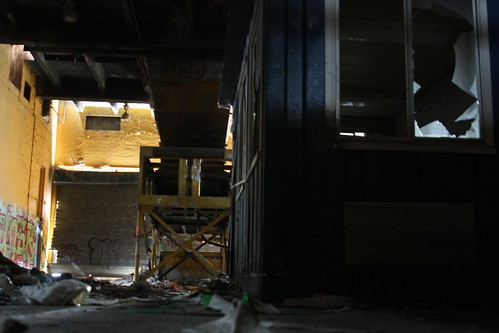graffiti: (1, 215, 53, 275), (69, 230, 131, 277)
trash: (1, 271, 231, 331)
window: (315, 1, 486, 151)
